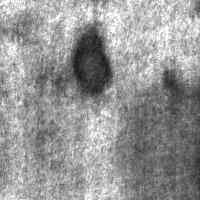patches: (116, 73, 200, 200), (73, 27, 110, 94)
